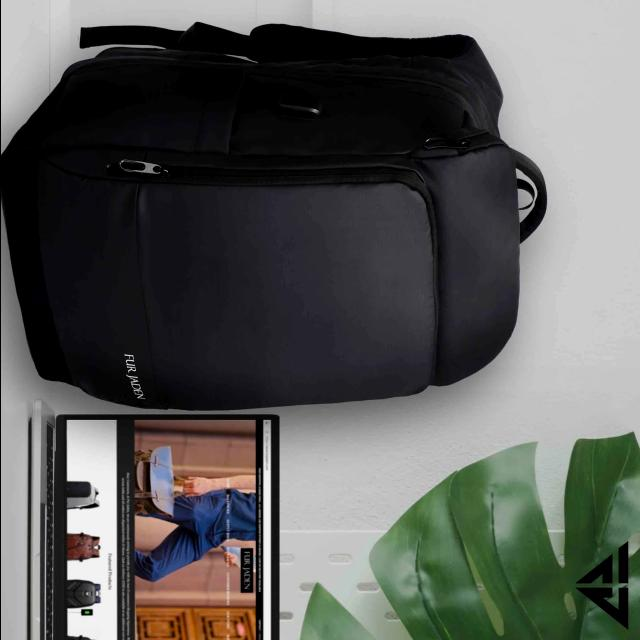backpack: (2, 23, 548, 412)
